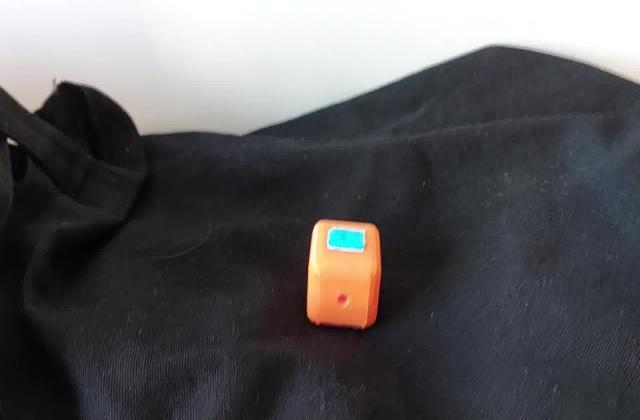blue: (332, 232, 360, 249)
cube: (305, 214, 384, 330)
